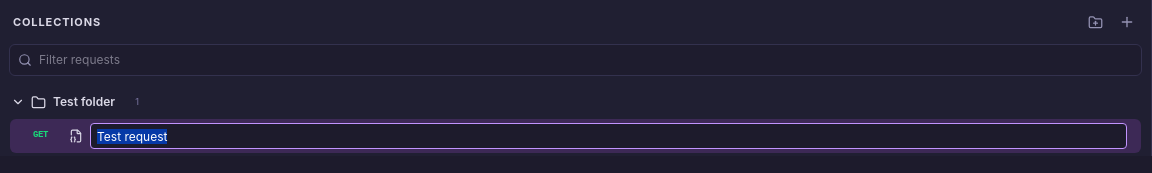
Test: CollectionSidebar › renames the current request and confirms with Enter
Replace the text in the 2nd field with "Renamed request" at [608, 136], box [90, 123, 1127, 149]
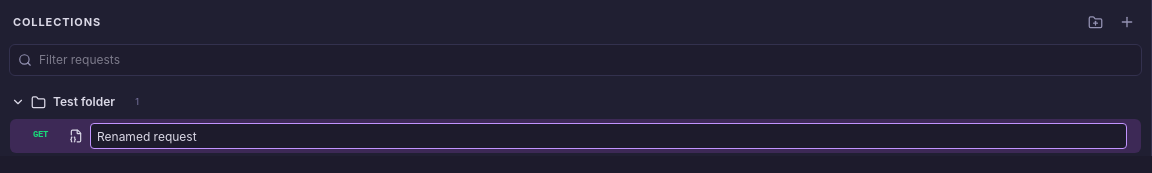
Press Enter in the 2nd field, box [90, 123, 1127, 149]
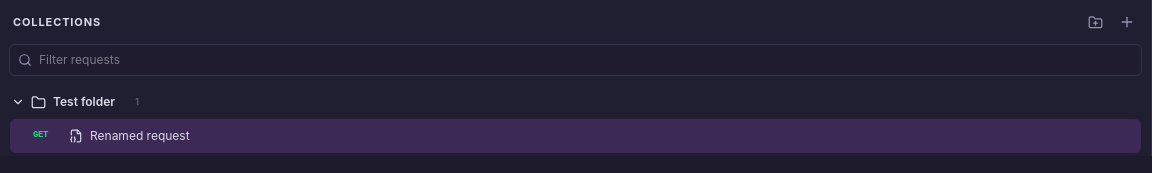
Expected: the text "Renamed request" is shown, [90, 128, 190, 143]
